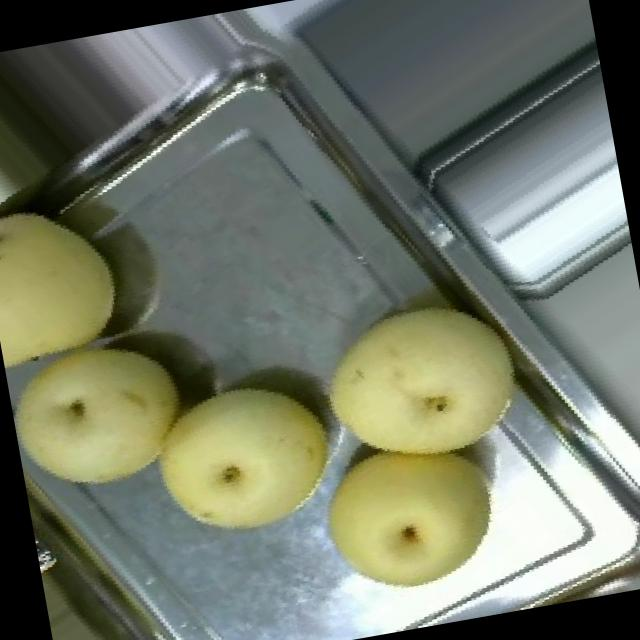Fruit: (288, 254, 556, 498), (123, 352, 362, 568), (290, 412, 529, 626), (0, 314, 210, 513), (0, 171, 147, 366)
